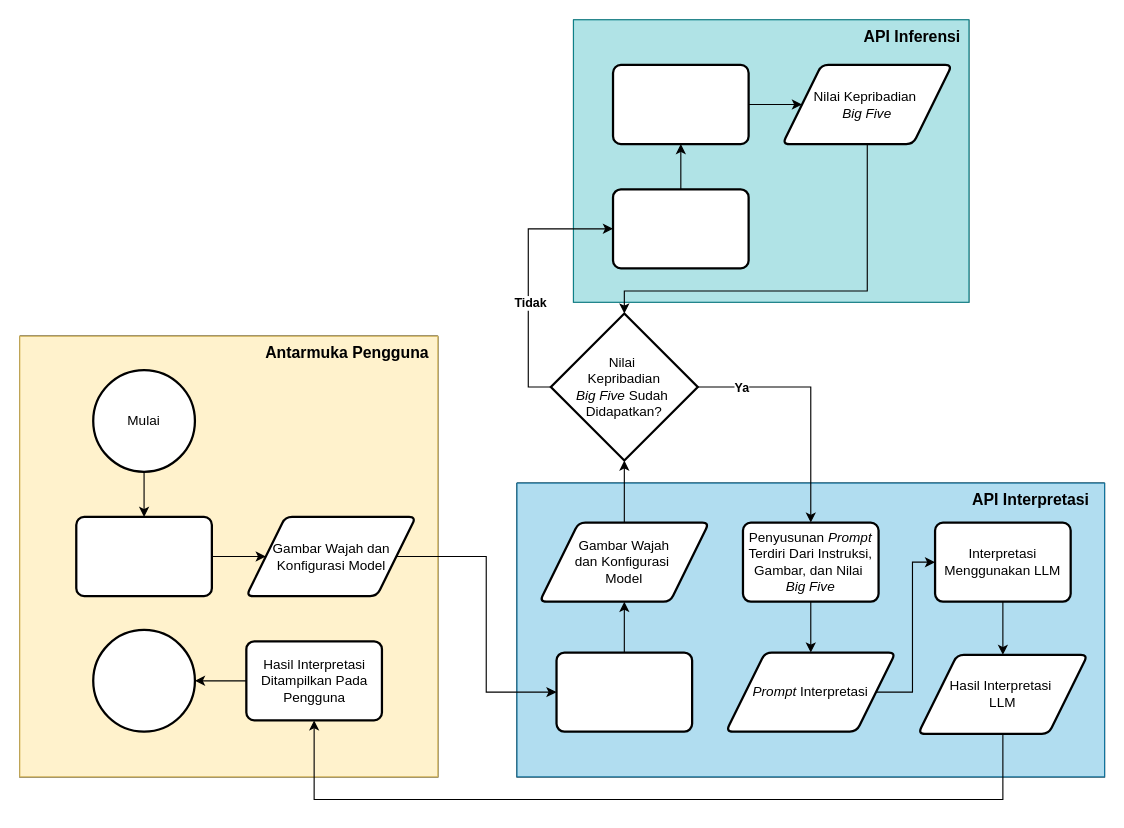
Image size: 1124x828. Some labels were removed from this diagram. Each missing label, with the centre of its shape:
"Inferensi Menggunakan Model yang Dipilih" goes at point 680,104.
"Menerima Data dari Antarmuka Pengguna" goes at point 624,691.
"Pengguna Mengunggah Gambar Wajah dan Model" goes at point 143,556.
"Praproses Gambar" goes at point 680,228.
"Selesai" goes at point 143,680.
